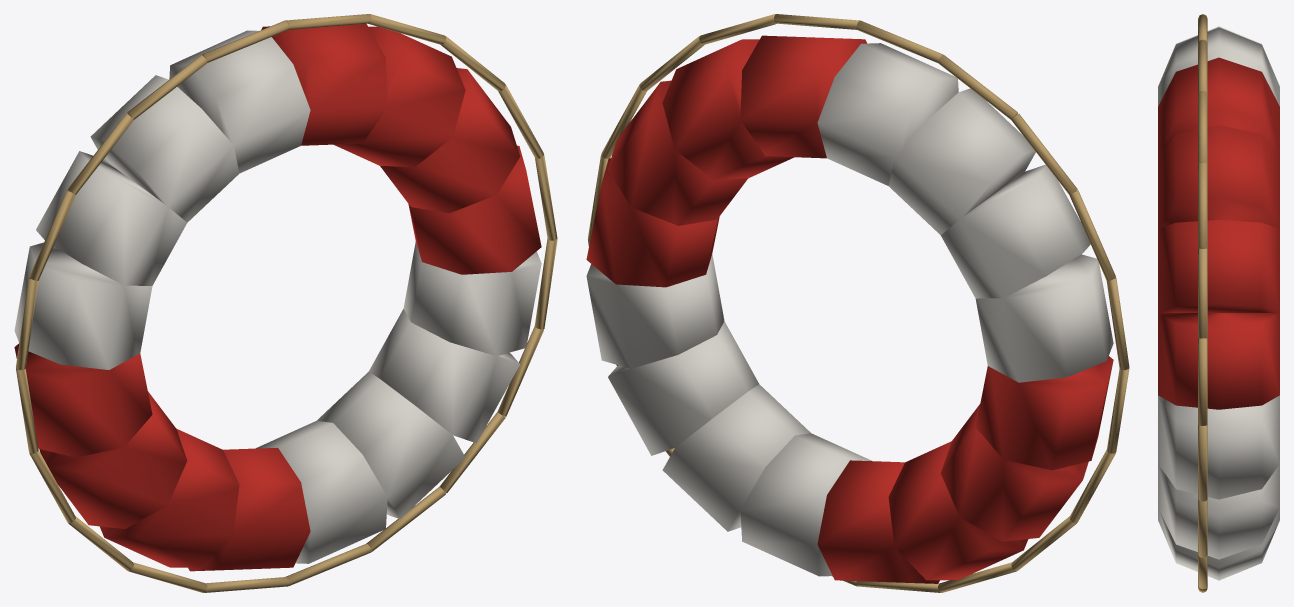
File: lifebuoy_v0.glb
3 renders of one model, left to right at view 1: azimuth 30°, elevation 25°; view 2: azimuth 150°, elevation 25°; view 3: azimuth 270°, elevation 25°, orthographic. The views are drawn at different scales.
Visible parts, largest first — view 1: lifebuoy_v0; view 2: lifebuoy_v0; view 3: lifebuoy_v0.
Part boxes in pixels (left/top/right/bottom): lifebuoy_v0: left=14, top=14, right=557, bottom=592; lifebuoy_v0: left=586, top=14, right=1129, bottom=592; lifebuoy_v0: left=1158, top=14, right=1279, bottom=592.
Size of the model in its own units: 1.45 by 1.45 by 0.3024.
